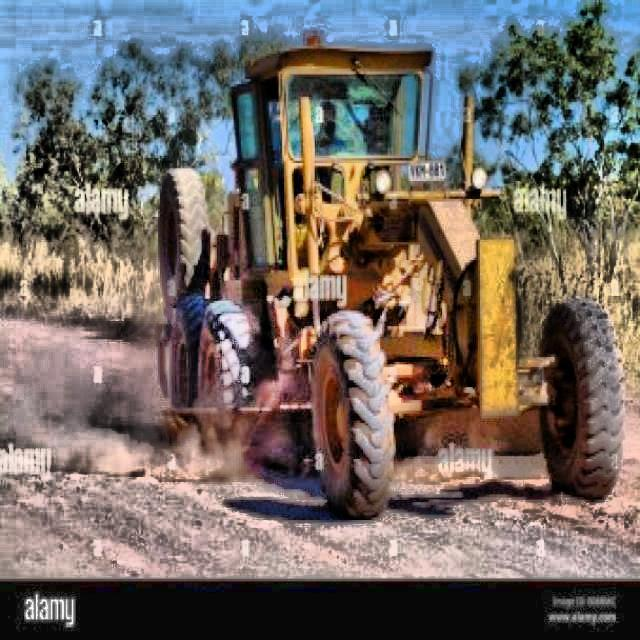bull_dozer/loader/grader: (152, 27, 626, 525)
person: (314, 102, 352, 157)
